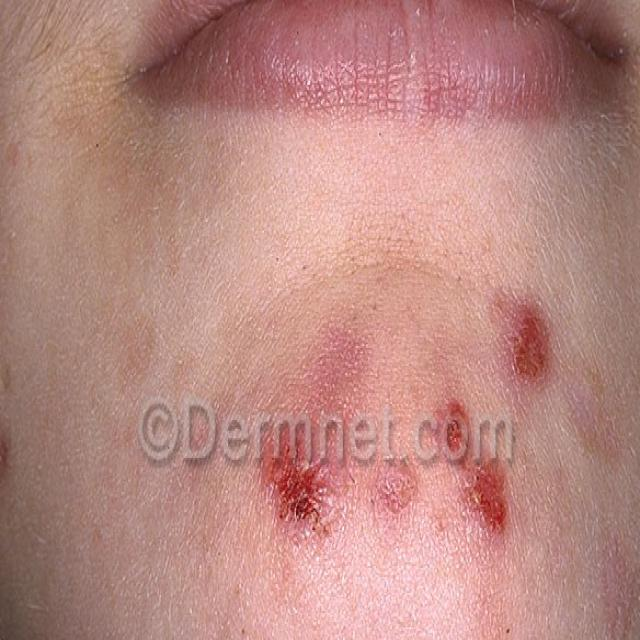Acne: (234, 264, 616, 613), (0, 236, 103, 552)
